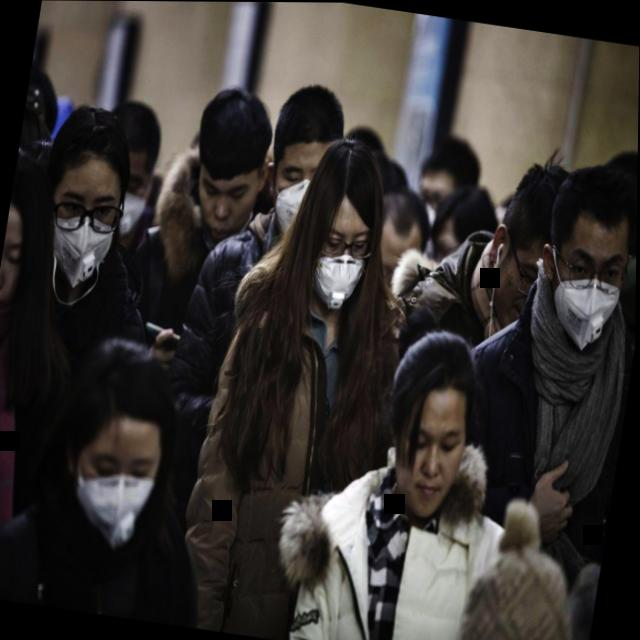Mask: (47, 323, 192, 566), (27, 89, 148, 306), (526, 155, 638, 364), (292, 132, 397, 322), (255, 72, 355, 253)
NO-Mask: (372, 318, 492, 522), (474, 149, 572, 337), (183, 77, 282, 251), (0, 154, 64, 318)
